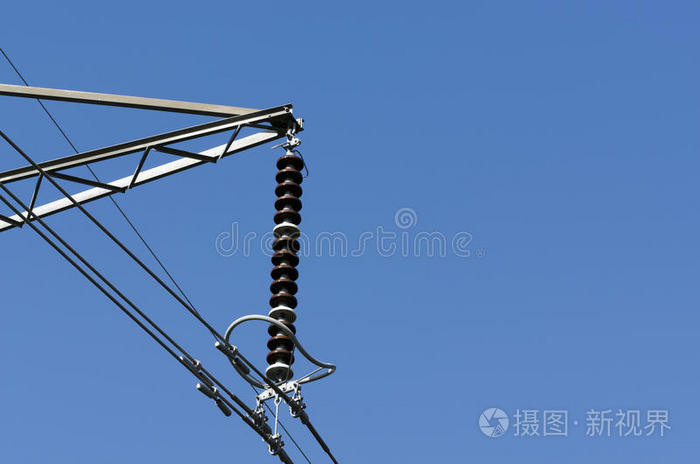insulator: (266, 154, 305, 366)
